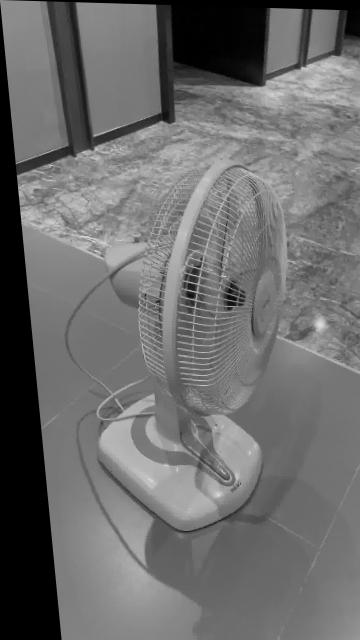Fan: (89, 159, 283, 532)
